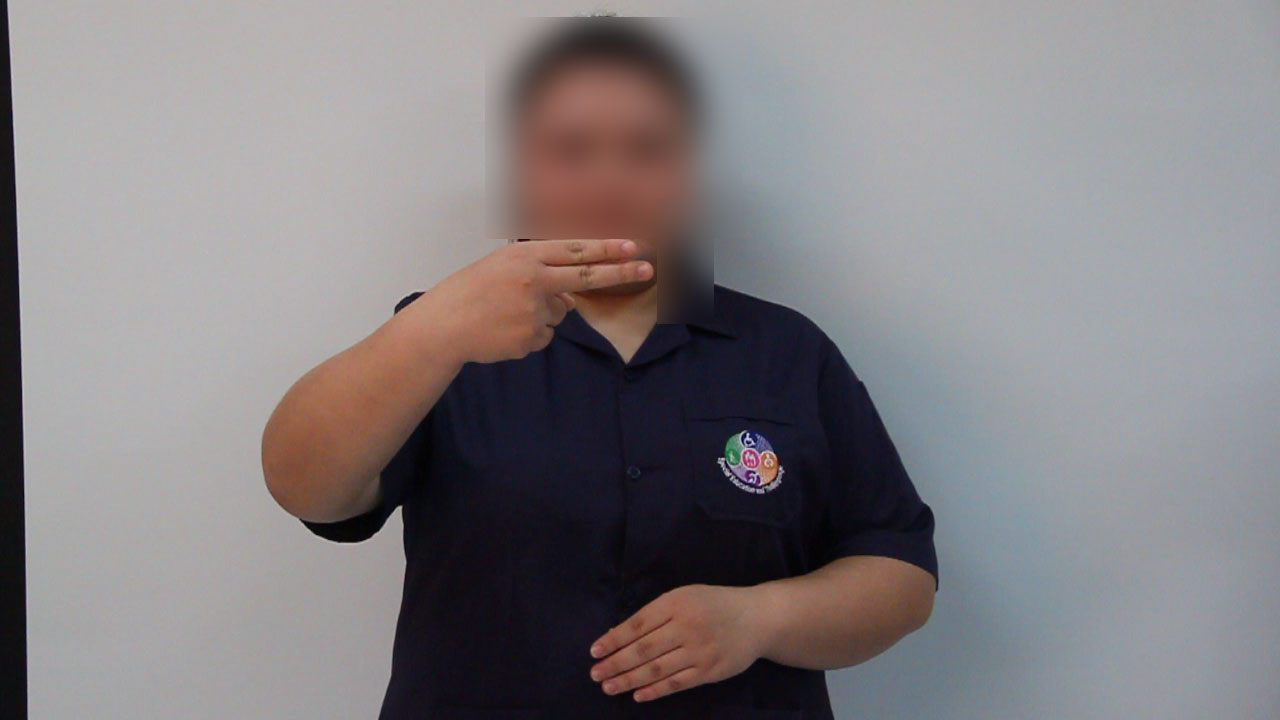hor: (418, 218, 665, 379)
